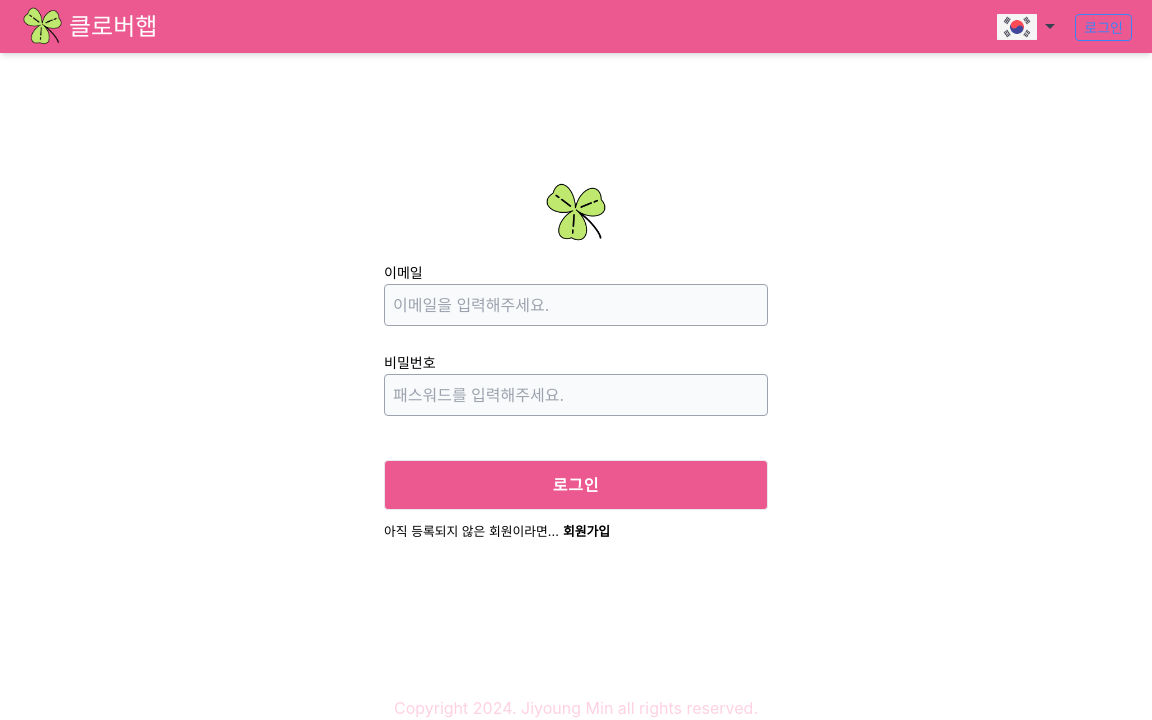
Test case: 로그인 페이지 › 폼 언어 변경 테스트
Expected: the field with id "login-emailInput" is shown, [384, 284, 768, 326]
Expected: the password field with id "login-passwordInput" is shown, [384, 374, 768, 416]
영어로 변경 확인
Click the element with id "localeSelect" at (1026, 27), box [997, 7, 1055, 47]
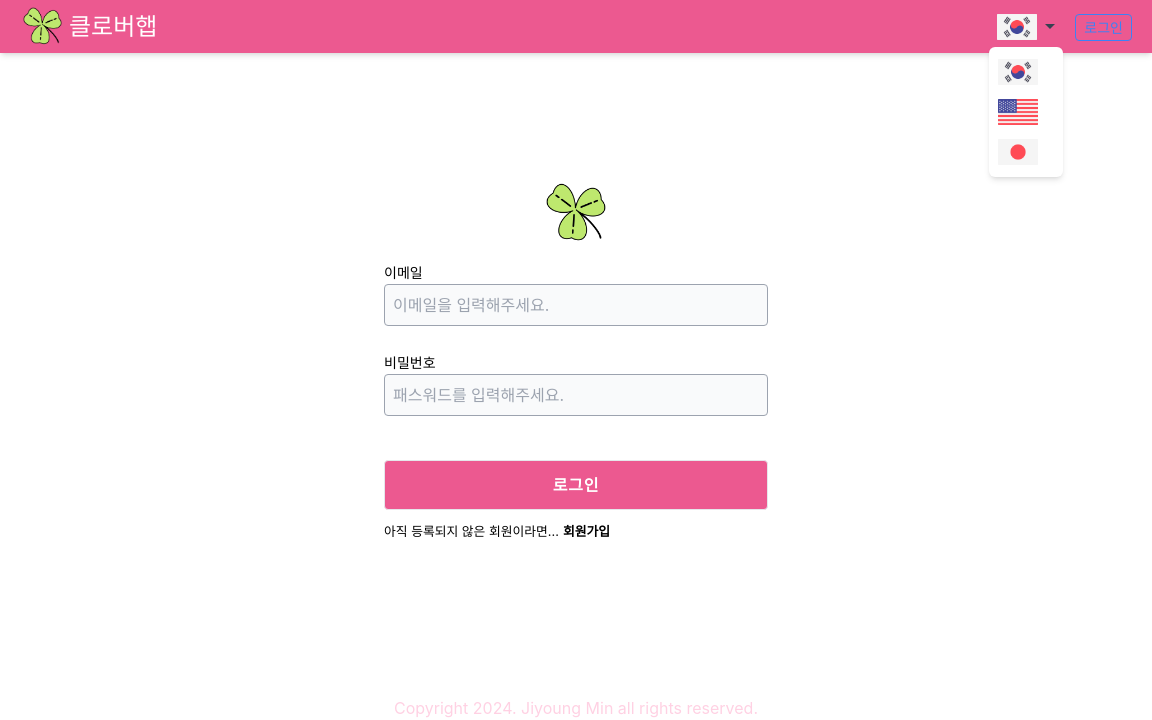
Click the 2nd list item at (1026, 112), box [994, 92, 1058, 132]
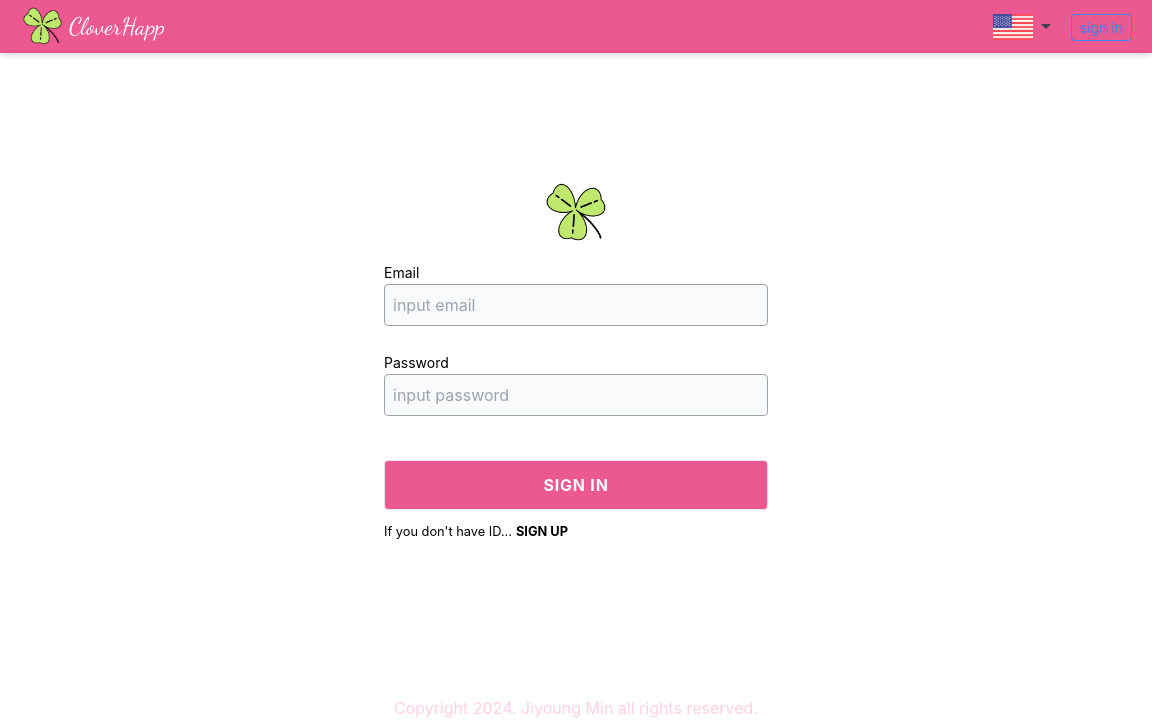
Now the label "Password" is shown, box [384, 354, 449, 371]
일본어로 변경 확인
Click the element with id "localeSelect" at (1022, 27), box [993, 7, 1051, 47]
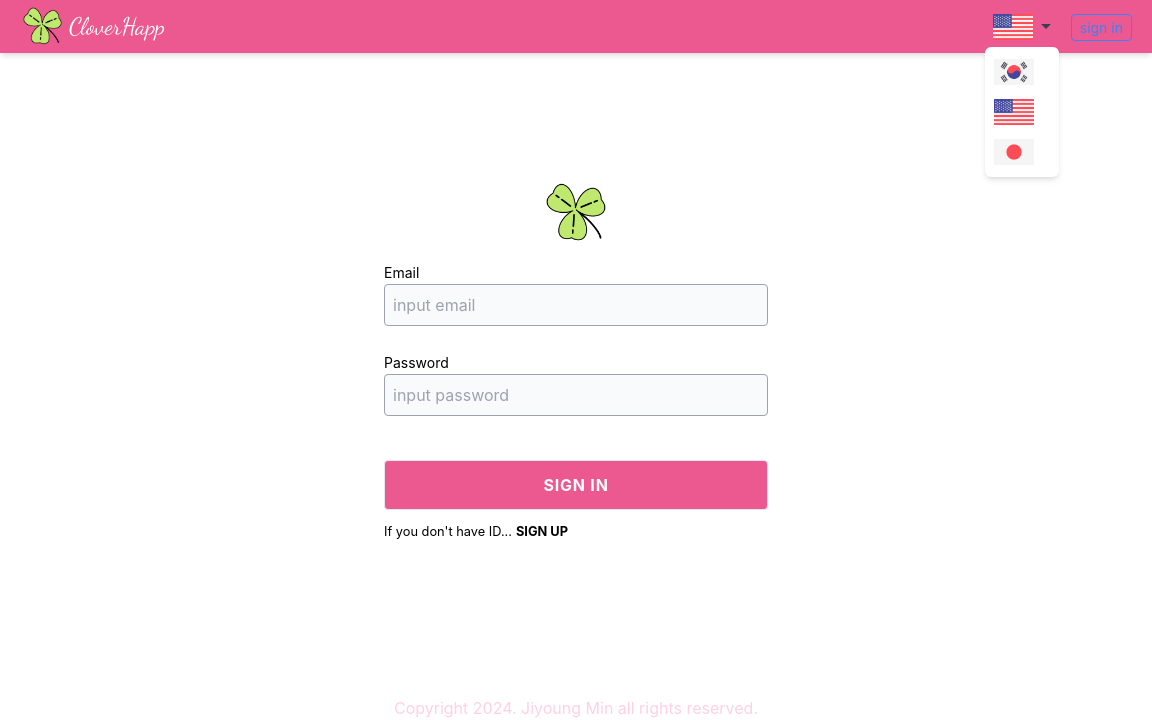
Click the 3rd list item at (1022, 152), box [990, 132, 1054, 172]
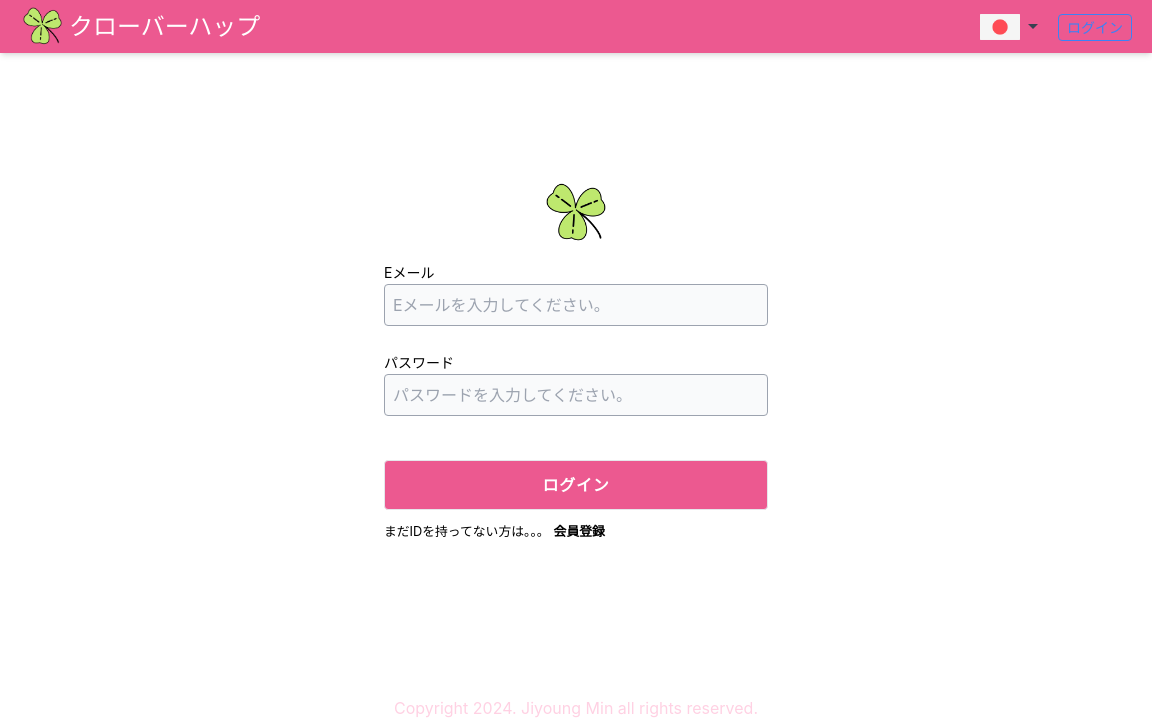
Now the button with id "loginButton" reads "ログイン", box [384, 460, 768, 510]
한국어로 변경 확인
Click the element with id "localeSelect" at (1009, 27), box [980, 7, 1038, 47]
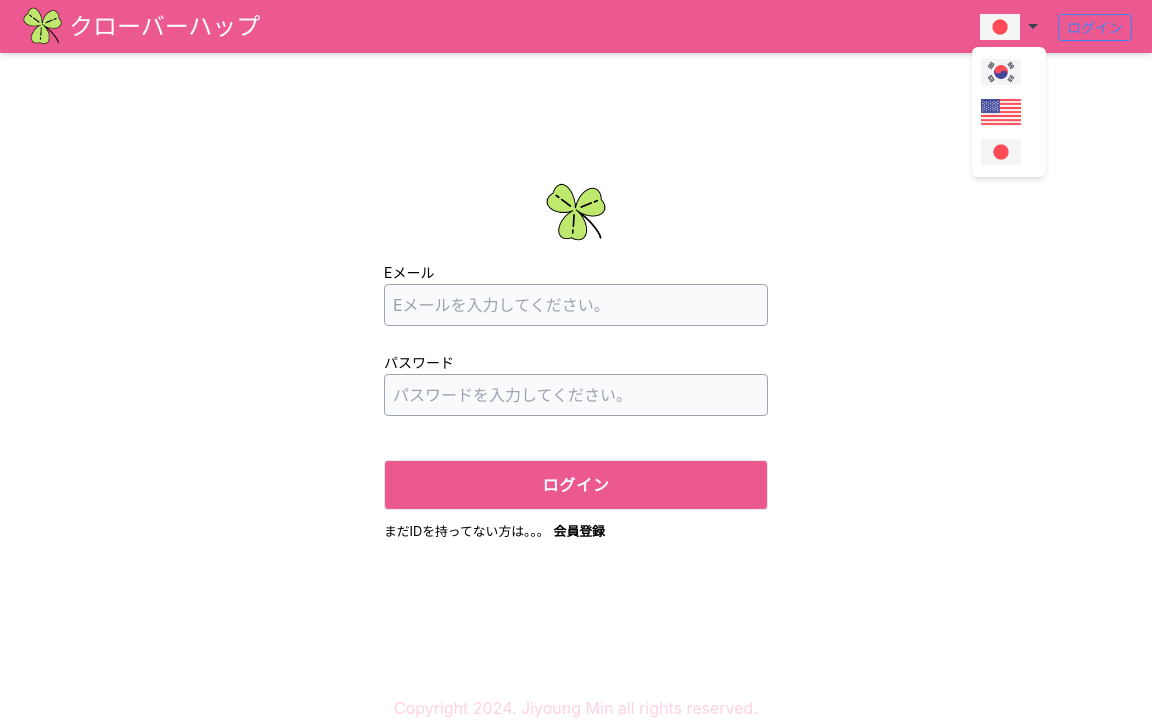
Click the 1st list item at (1009, 72), box [977, 52, 1041, 92]
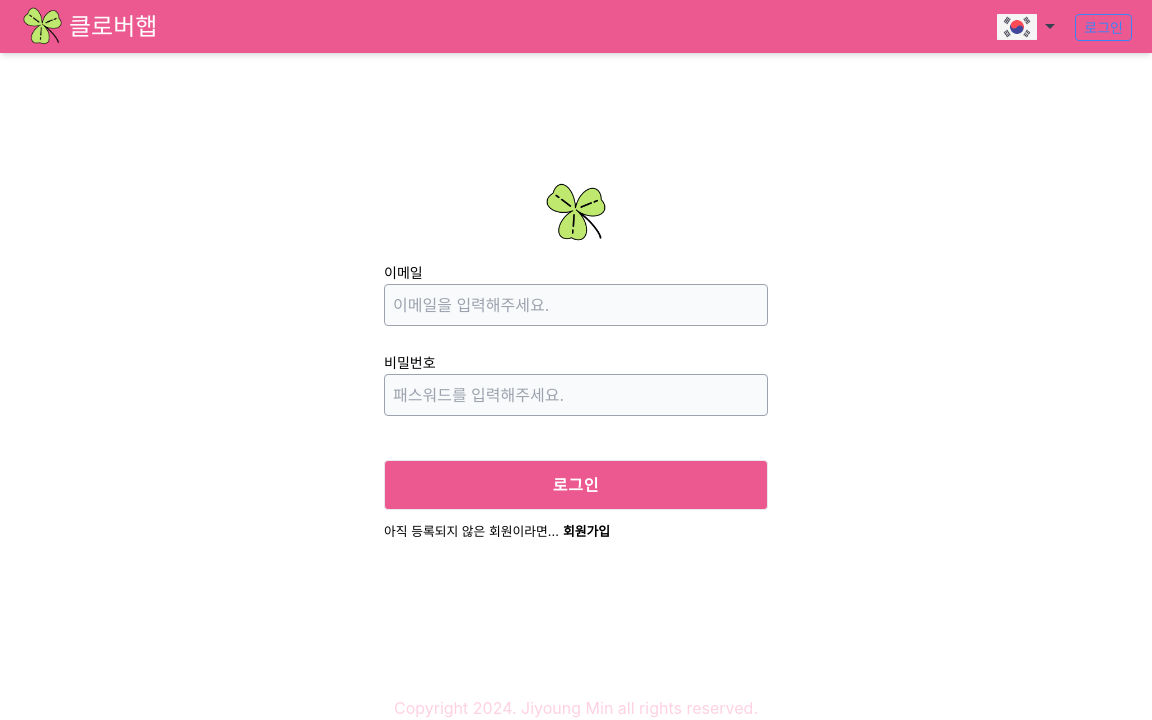
Now the link with id "signupLink" reads "회원가입", box [563, 524, 610, 539]
